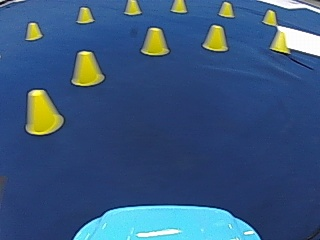cone: (24, 88, 62, 135), (70, 50, 104, 86), (140, 26, 169, 56), (201, 23, 227, 51), (270, 29, 287, 52), (24, 21, 42, 40), (75, 6, 93, 23), (218, 1, 234, 18), (124, 0, 141, 15), (262, 9, 277, 25), (170, 0, 186, 13)
